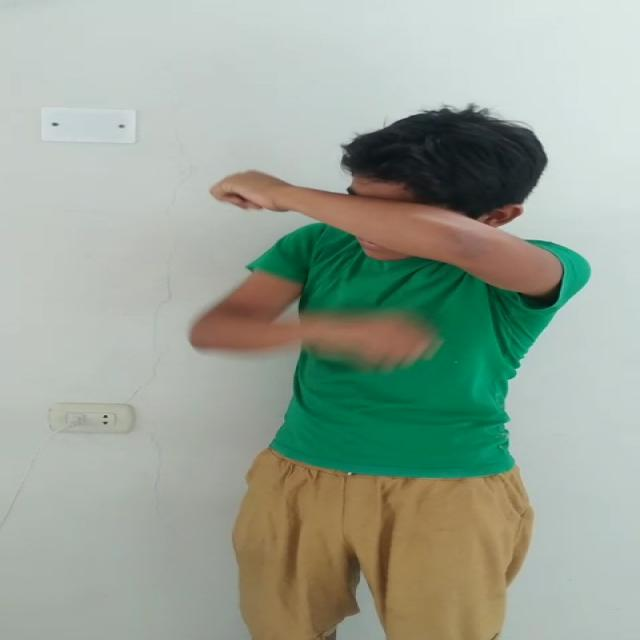7_mano_rostro: (327, 169, 537, 280)
